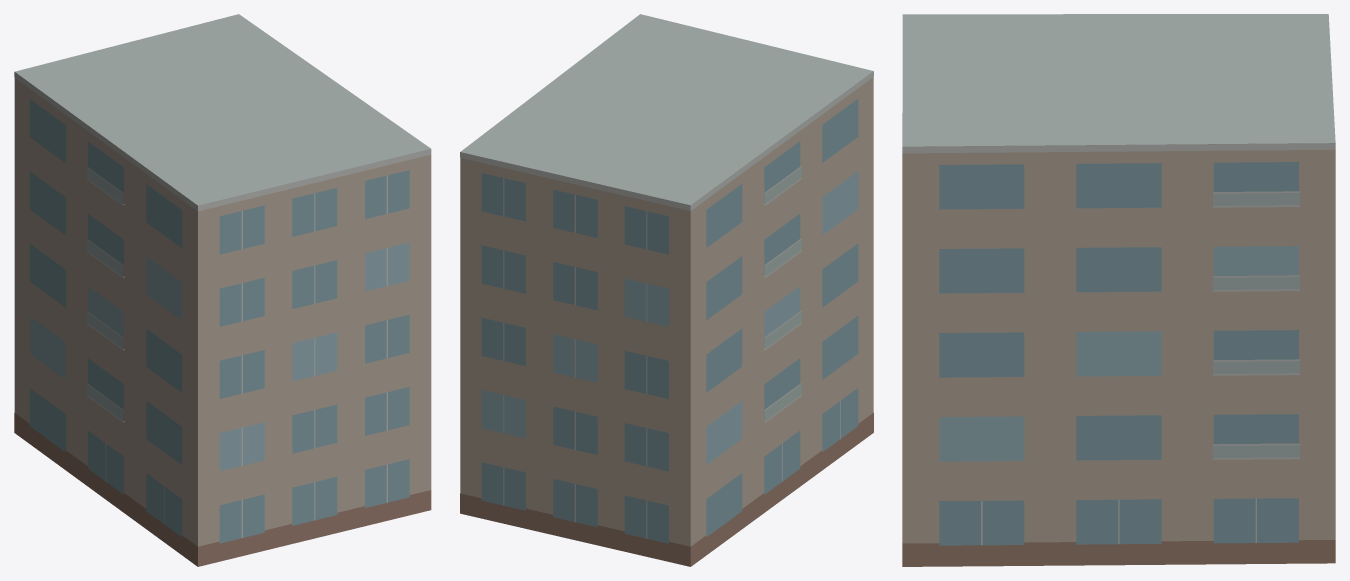
Rendered from survey-upis-32631062.glb.
3 views of the same model, side by side, from view 1: azimuth 30°, elevation 25°; view 2: azimuth 150°, elevation 25°; view 3: azimuth 270°, elevation 25° (orthographic). The views are drawn at different scales.
Visible parts, largest first — view 1: survey-upis-32631062.tmp; view 2: survey-upis-32631062.tmp; view 3: survey-upis-32631062.tmp.
Boxes of the visible parts, x1,y1,x2,y2 form: survey-upis-32631062.tmp: (14, 14, 431, 566); survey-upis-32631062.tmp: (460, 14, 873, 566); survey-upis-32631062.tmp: (902, 14, 1335, 566).
Size of the model in its own units: 10.36 by 15.25 by 14.26.
